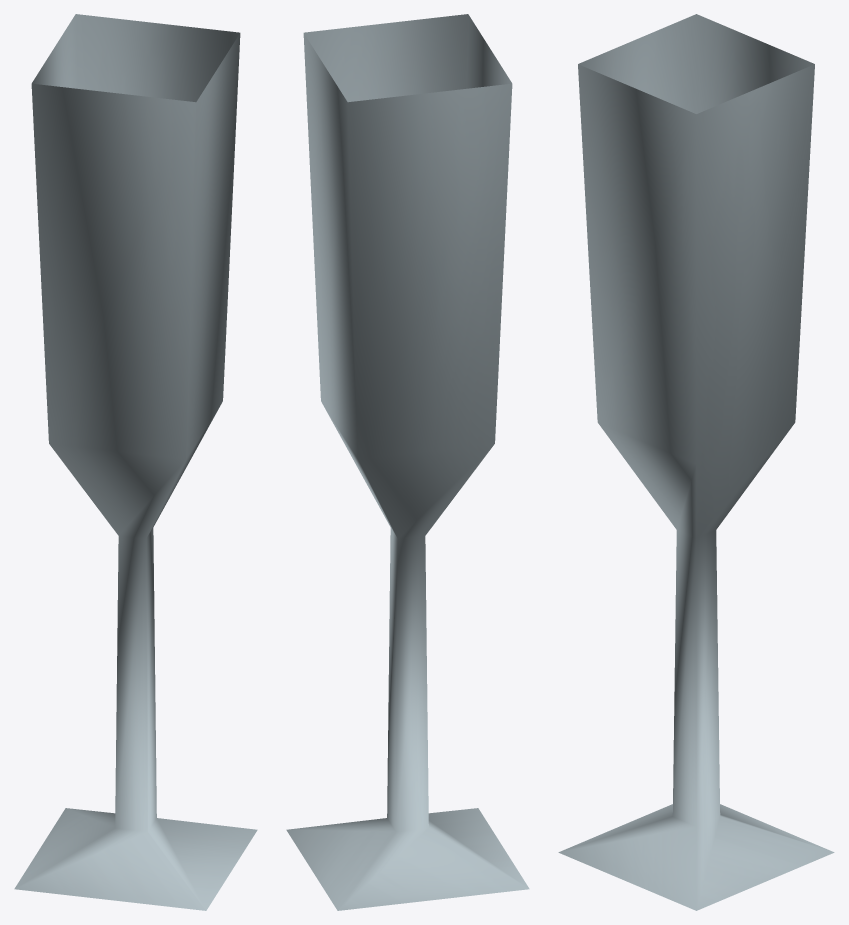
The model's file is Glass_Flute_1_LOD2.gltf.
The picture shows the model from 3 angles, left to right: view 1: azimuth 30°, elevation 25°; view 2: azimuth 150°, elevation 25°; view 3: azimuth 270°, elevation 25°; orthographic projection.
Parts seen in each view (by area): view 1: Glass_Flute_1_LOD2; view 2: Glass_Flute_1_LOD2; view 3: Glass_Flute_1_LOD2.
Part boxes in pixels (box(x1,y1,x2,y2)): Glass_Flute_1_LOD2: box(14, 14, 257, 910); Glass_Flute_1_LOD2: box(286, 14, 529, 910); Glass_Flute_1_LOD2: box(558, 14, 834, 910).
Size of the model in its own units: 0.07 by 0.22 by 0.07.
1 material, 1 textured.
